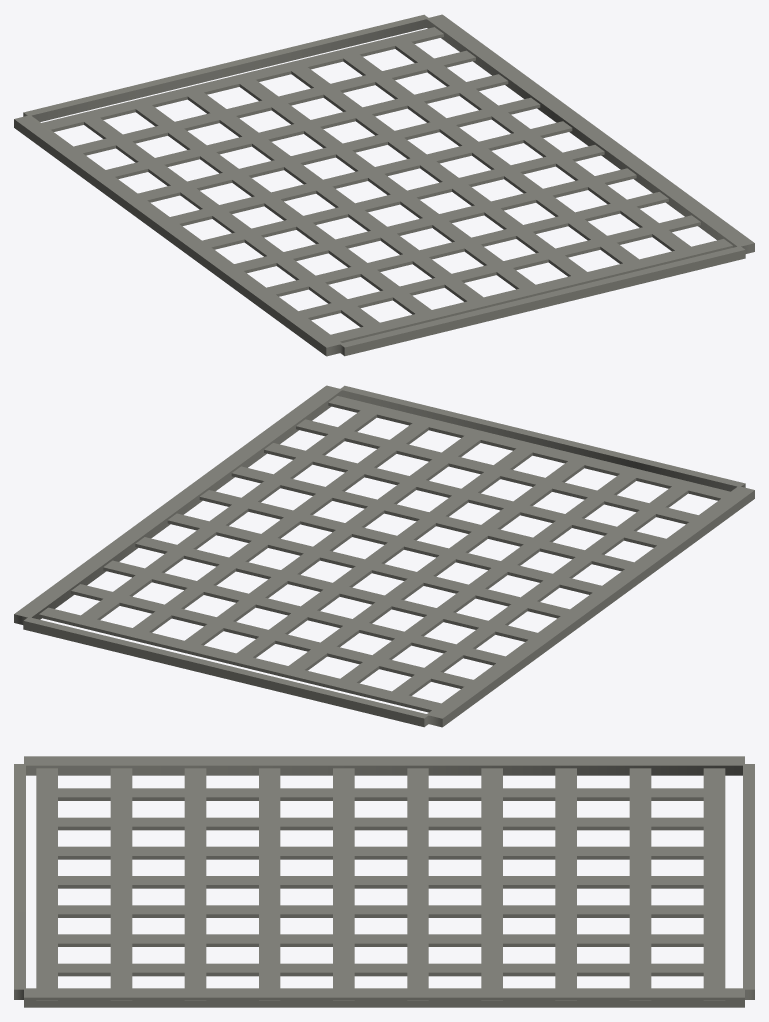
Rendered from metal_grid_01.fbx.
3 renders of one model, top to bottom at view 1: azimuth 30°, elevation 25°; view 2: azimuth 150°, elevation 25°; view 3: azimuth 270°, elevation 25°, orthographic. The views are drawn at different scales.
Visible parts, largest first — view 1: metal_grid_01; view 2: metal_grid_01; view 3: metal_grid_01.
Boxes of the visible parts, box(x1,y1,x2,y2) form: metal_grid_01: box(14, 14, 754, 356); metal_grid_01: box(14, 385, 754, 727); metal_grid_01: box(14, 756, 754, 1007).
Bounding box in the file's own units: 306 × 5.96 × 397.
